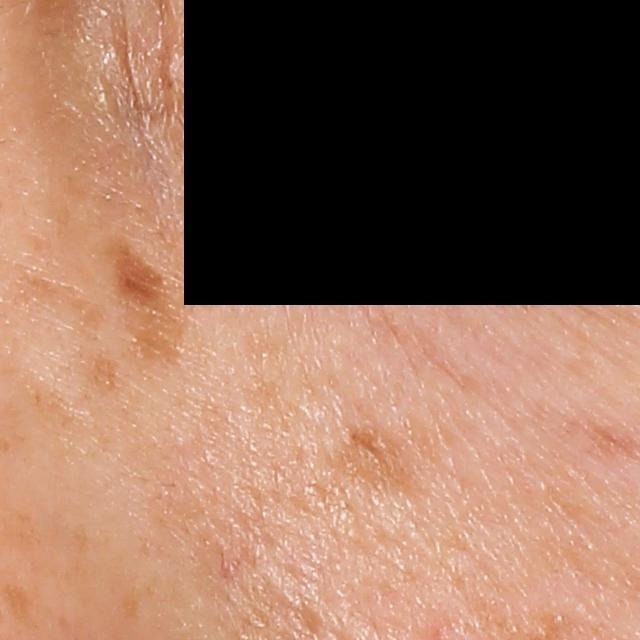melasma: (107, 233, 189, 364), (336, 421, 450, 500), (4, 275, 111, 344), (78, 346, 124, 393), (1, 582, 39, 631)
